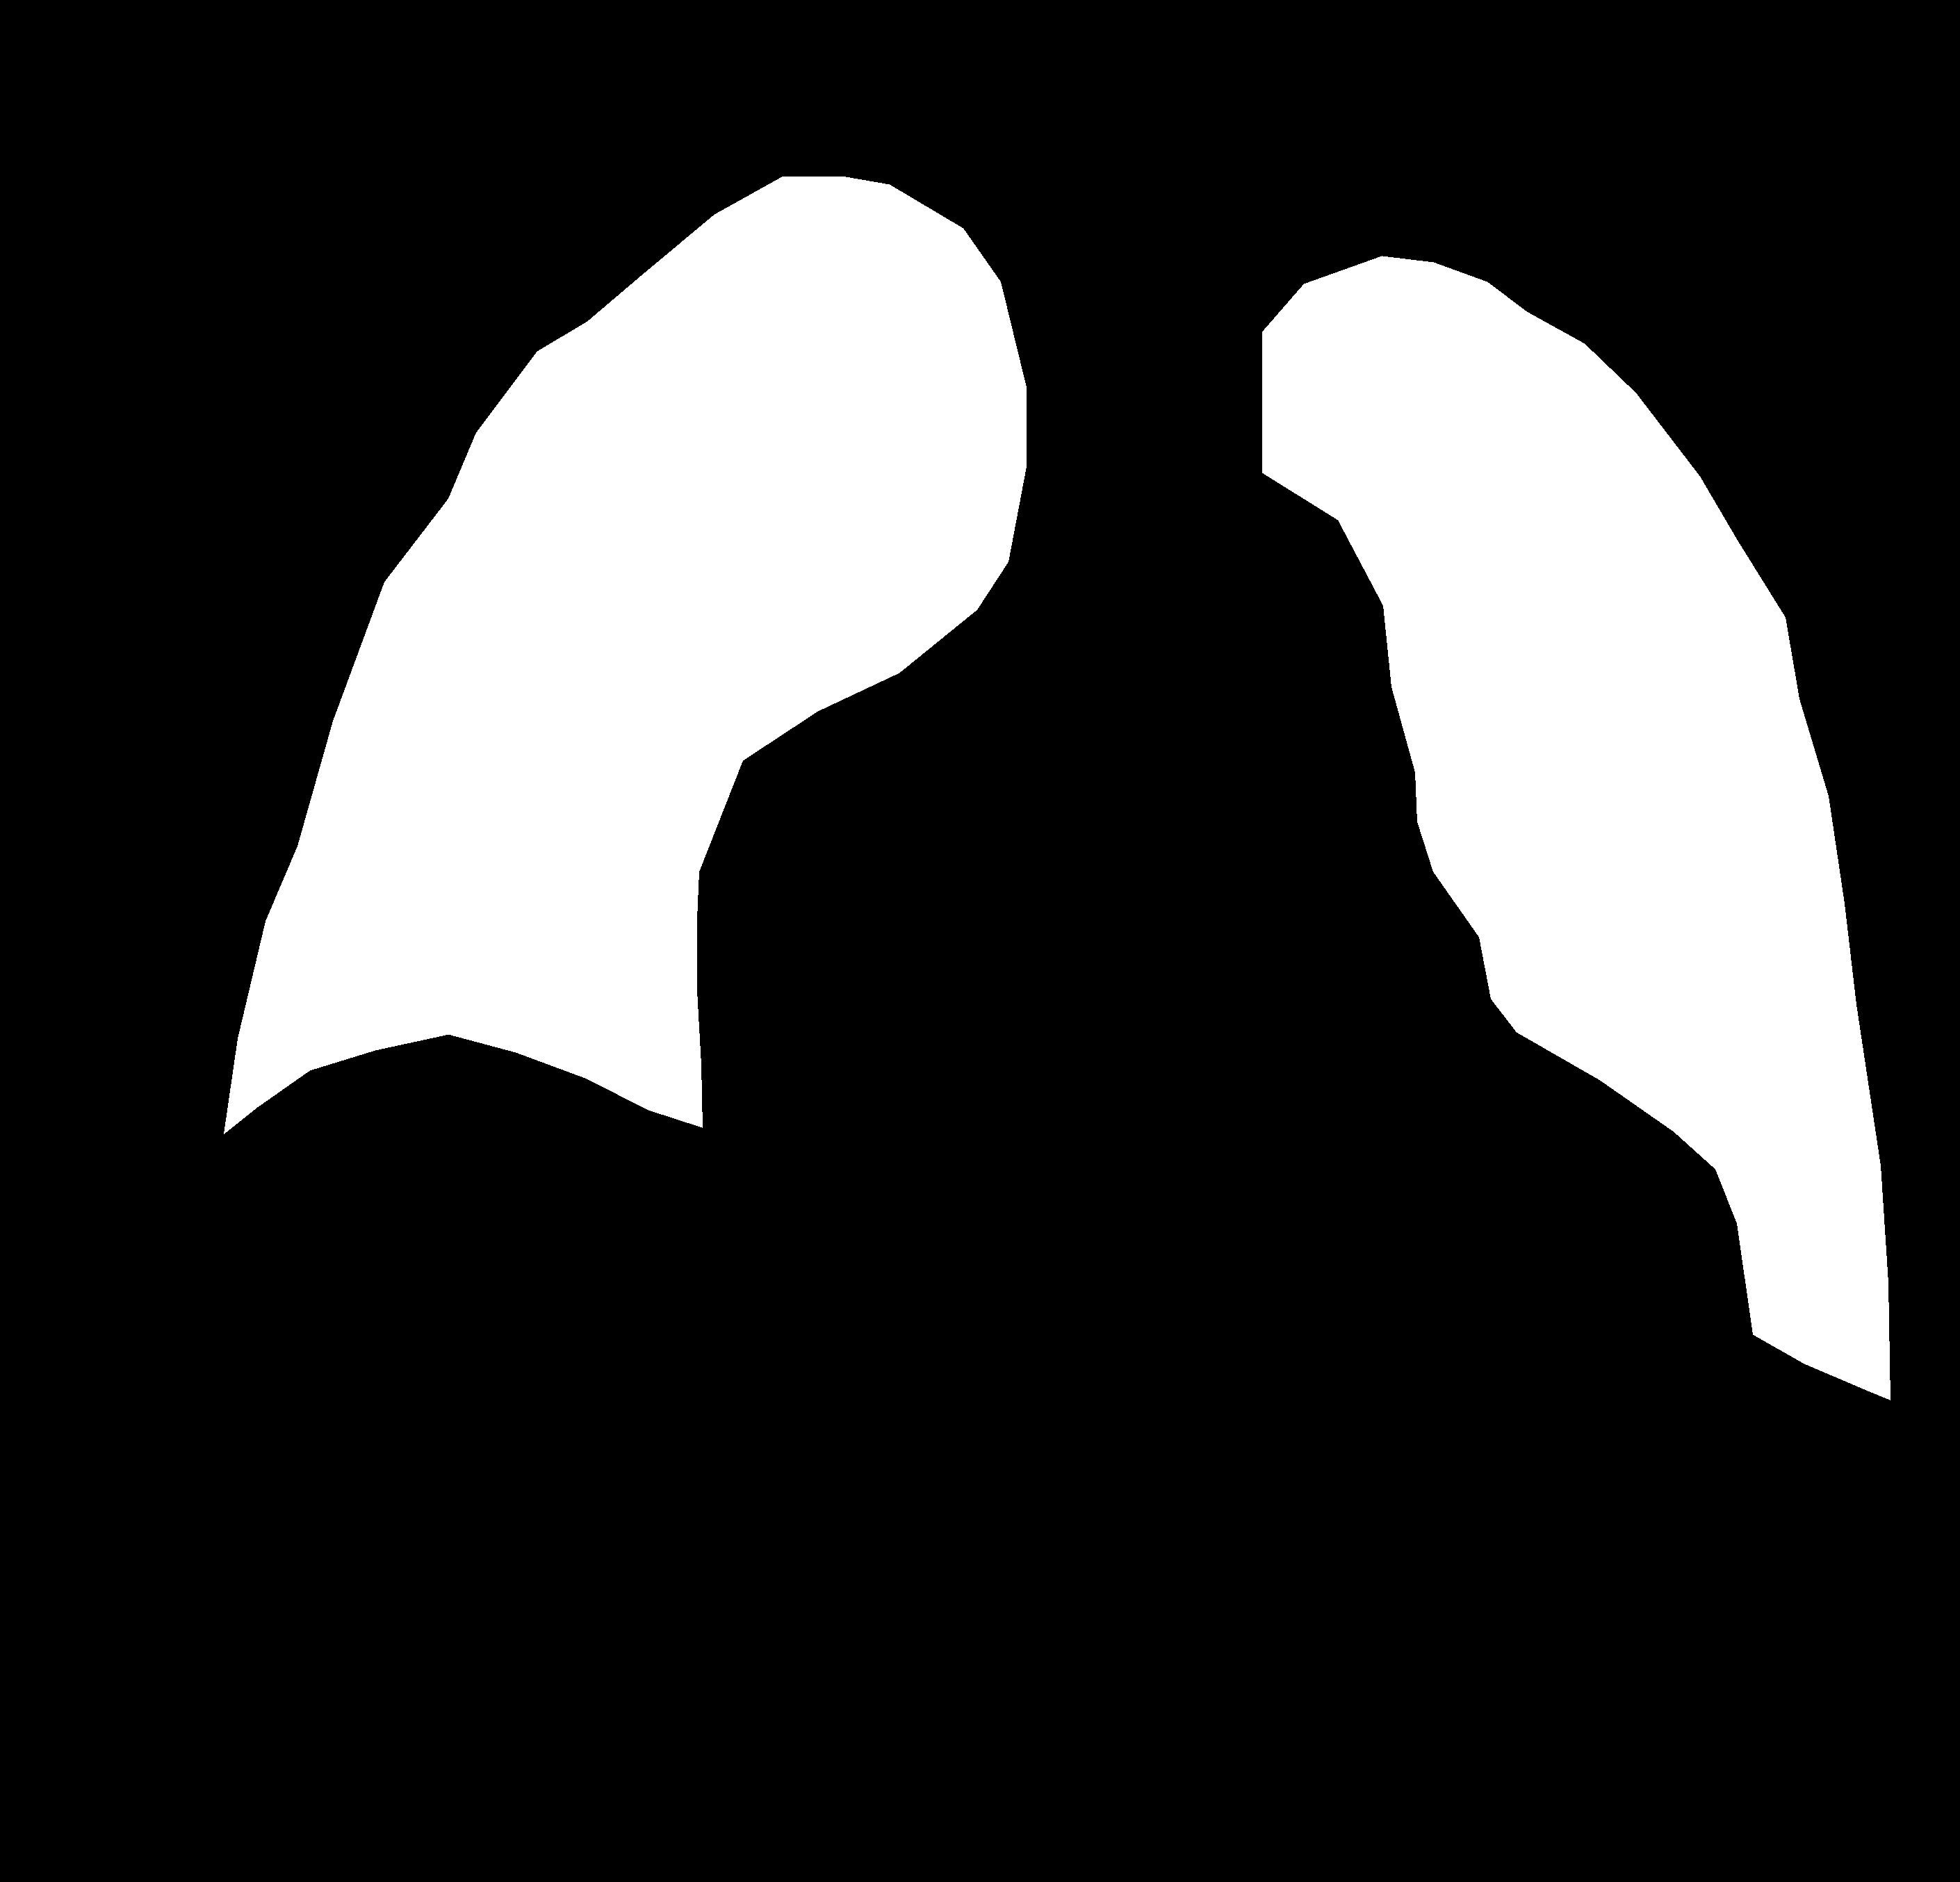heart: (695, 586, 1739, 1331)
left_lung: (224, 177, 1025, 1133)
right_lung: (1262, 255, 1890, 1399)
